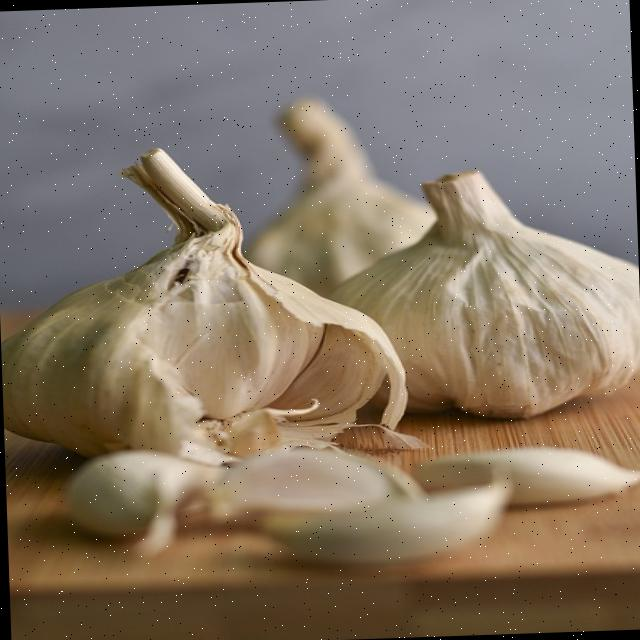garlic: (4, 148, 406, 464), (333, 171, 640, 416)
